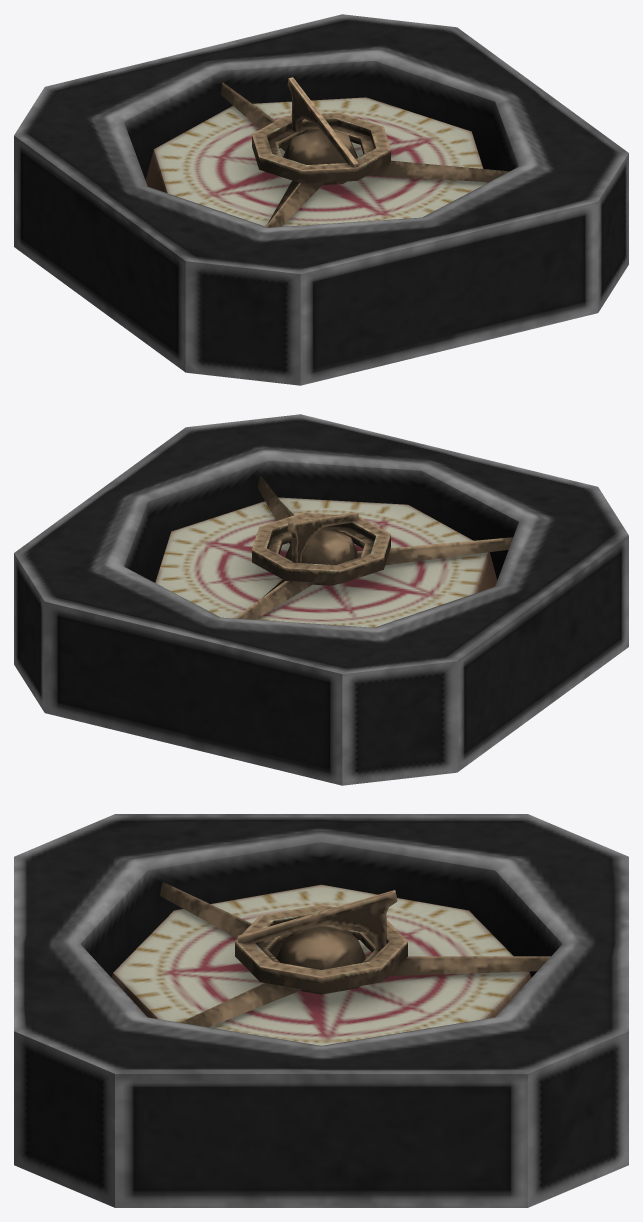
File: compass.fbx
The picture shows the model from 3 angles, top to bottom: view 1: azimuth 30°, elevation 25°; view 2: azimuth 150°, elevation 25°; view 3: azimuth 270°, elevation 25°; orthographic projection. The views are drawn at different scales.
Visible parts, largest first — view 1: compass; view 2: compass; view 3: compass.
Boxes of the visible parts, bbox=[...] form: compass: bbox=[14, 14, 628, 385]; compass: bbox=[14, 414, 628, 785]; compass: bbox=[14, 814, 628, 1207].
Size of the model in its own units: 49.93 by 16.73 by 49.93.
